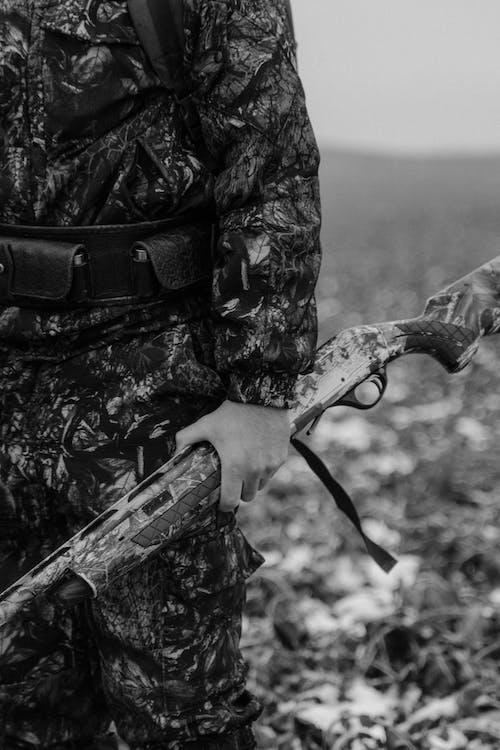gun: (0, 251, 500, 665)
